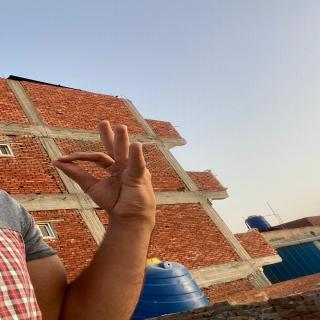Space: (50, 118, 160, 222)
